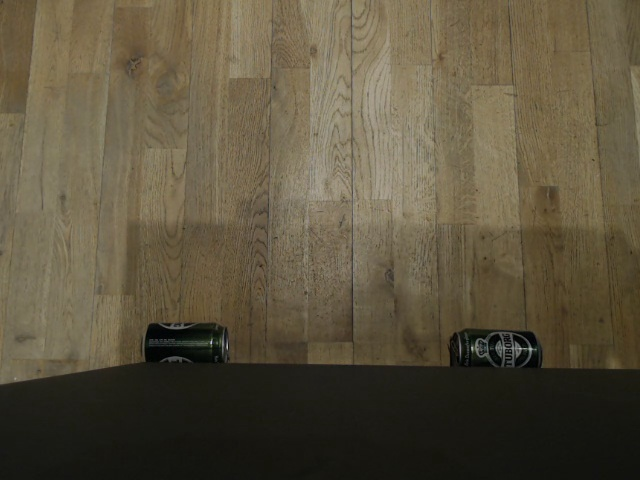beer: (137, 320, 232, 365), (447, 325, 543, 369)
